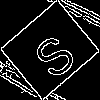S: (25, 24, 80, 82)
